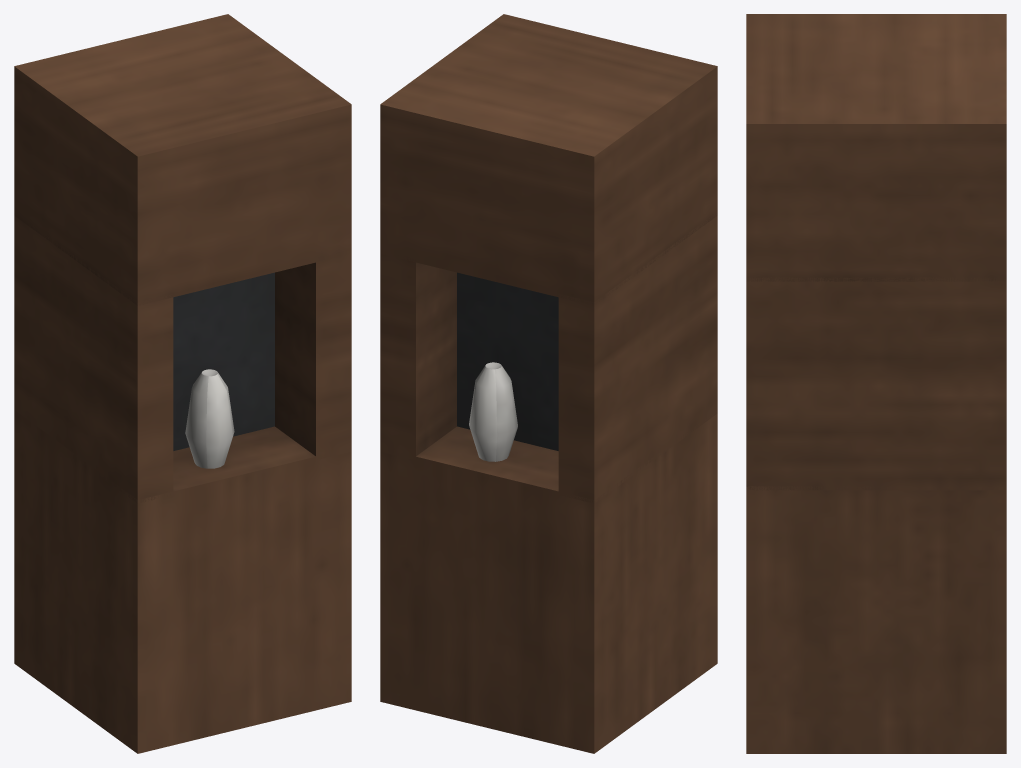
Rendered from H_DisplayColumn.fbx.
The picture shows the model from 3 angles, left to right: view 1: azimuth 30°, elevation 25°; view 2: azimuth 150°, elevation 25°; view 3: azimuth 270°, elevation 25°; orthographic projection. The views are drawn at different scales.
Visible parts, largest first — view 1: H_DisplayColumn; view 2: H_DisplayColumn; view 3: H_DisplayColumn.
Boxes of the visible parts, box(x1,y1,x2,y2) form: H_DisplayColumn: box(14, 14, 351, 753); H_DisplayColumn: box(380, 14, 717, 753); H_DisplayColumn: box(746, 14, 1006, 753).
Bounding box in the file's own units: 300 × 800 × 300.
Materials: 1 (1 with a texture image).
